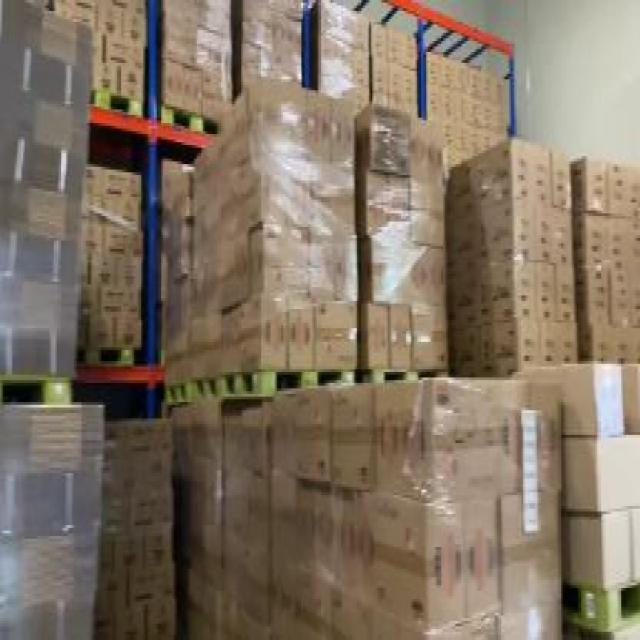box: (162, 361, 566, 635), (166, 87, 451, 383), (516, 358, 638, 638), (443, 150, 582, 378), (80, 408, 180, 637), (69, 164, 143, 380), (569, 156, 637, 380), (314, 0, 418, 142), (419, 41, 506, 178), (45, 3, 149, 115), (232, 2, 306, 140), (163, 0, 235, 137)
